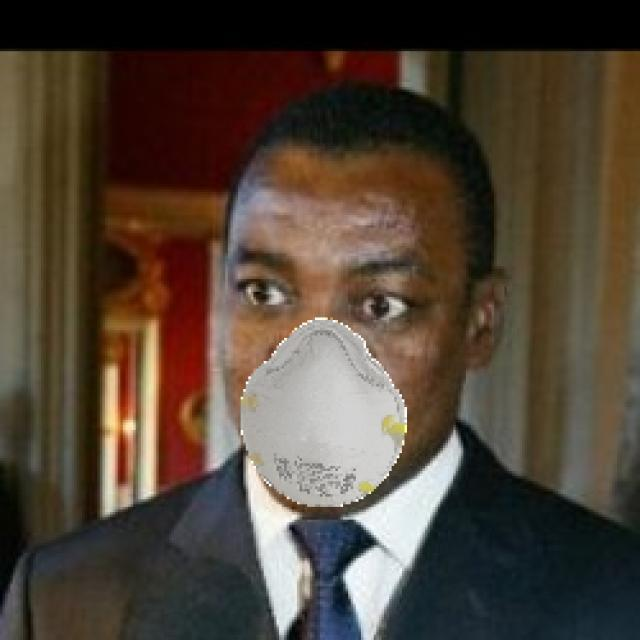n95: (216, 153, 470, 508)
